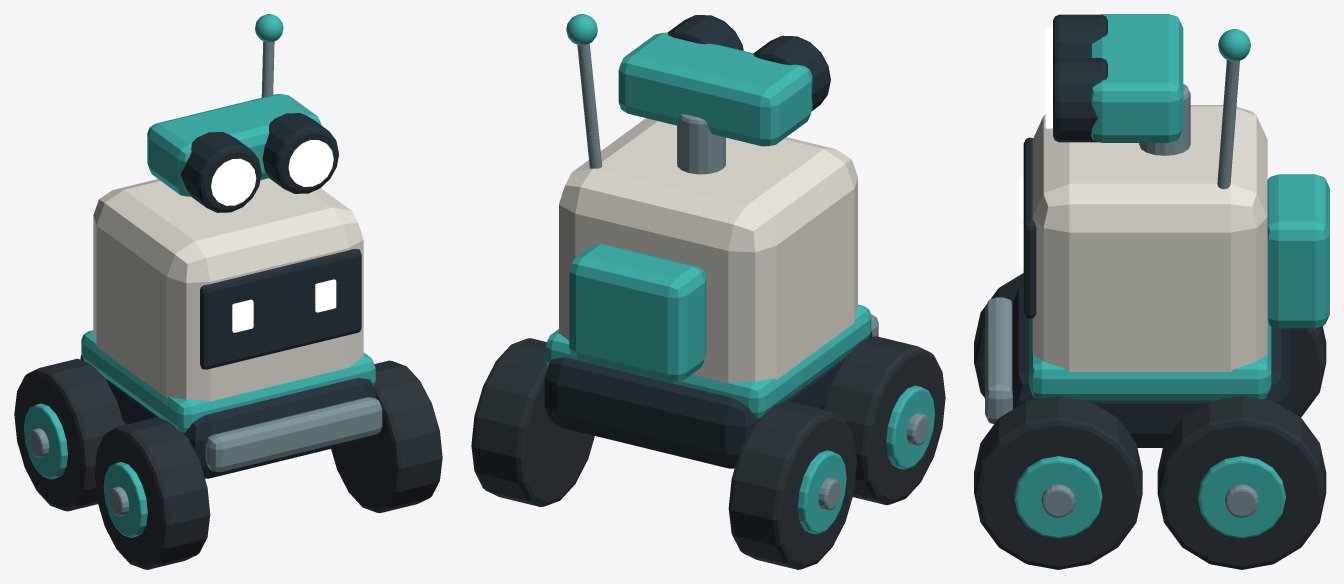
Rendered from robot_explorer.glb.
3 renders of one model, left to right at view 1: azimuth 30°, elevation 25°; view 2: azimuth 150°, elevation 25°; view 3: azimuth 270°, elevation 25°, orthographic. The views are drawn at different scales.
Parts seen in each view (by area): view 1: shell, face, wheel, wheel.002, wheel.001, front_bumper, binocular_mount, chassis, accent_belt, binocular, binocular.001, wheel_hub.001 (+7 smaller); view 2: shell, rear_pack, chassis, binocular_mount, wheel.001, wheel.003, wheel, accent_belt, wheel_hub, wheel_hub.001, sensor_neck, binocular (+5 smaller); view 3: shell, wheel.003, wheel.002, binocular_mount, rear_pack, accent_belt, chassis, wheel_hub.002, wheel_hub.003, binocular.001, front_bumper, wheel.001 (+9 smaller).
Boxes of the visible parts, box(x1,y1,x2,y2) form: shell: box(93, 178, 363, 401); face: box(200, 249, 361, 369); wheel: box(94, 417, 210, 569); wheel.002: box(331, 360, 442, 513); wheel.001: box(14, 358, 125, 511); front_bumper: box(205, 397, 382, 472); binocular_mount: box(147, 94, 321, 196); chassis: box(80, 354, 376, 478); accent_belt: box(81, 330, 375, 432); binocular: box(180, 132, 261, 212); binocular.001: box(262, 113, 338, 193); wheel_hub.001: box(24, 403, 67, 479); shell: box(559, 118, 857, 383); rear_pack: box(569, 244, 706, 381); chassis: box(544, 331, 872, 468); binocular_mount: box(618, 32, 812, 146); wheel.001: box(728, 401, 857, 569); wheel.003: box(471, 338, 594, 506); wheel: box(822, 336, 945, 505); accent_belt: box(545, 304, 871, 418); wheel_hub: box(886, 385, 934, 469); wheel_hub.001: box(797, 450, 846, 534); sensor_neck: box(677, 114, 725, 174); binocular: box(753, 35, 830, 110); shell: box(1032, 105, 1267, 371); wheel.003: box(1157, 396, 1326, 569); wheel.002: box(974, 396, 1142, 569); binocular_mount: box(1087, 14, 1183, 142); rear_pack: box(1267, 174, 1329, 328); accent_belt: box(1029, 318, 1271, 400); chassis: box(1012, 285, 1289, 447); wheel_hub.002: box(1014, 456, 1102, 538); wheel_hub.003: box(1198, 456, 1285, 538); binocular.001: box(1053, 58, 1107, 142); front_bumper: box(985, 297, 1012, 423); wheel.001: box(1289, 326, 1326, 417).
Size of the model in its own units: 1.11 by 1.53 by 0.97.
